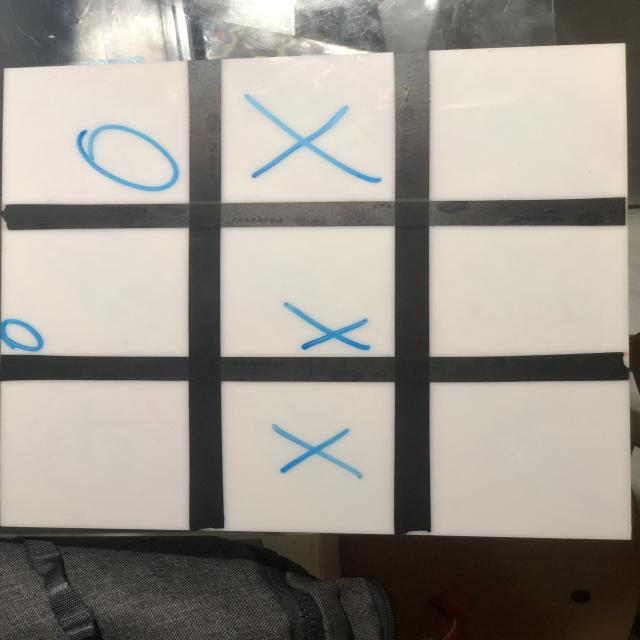null: (434, 382, 632, 539), (427, 49, 625, 199), (4, 382, 194, 533), (432, 224, 623, 354)
o: (75, 124, 181, 194), (1, 312, 46, 352)
table: (0, 44, 635, 559)
x: (245, 96, 382, 186), (273, 423, 365, 479), (289, 303, 372, 349)
